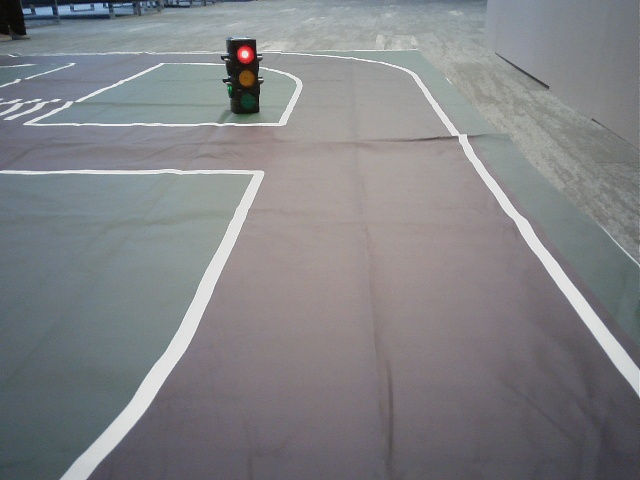red: (234, 43, 256, 111)
